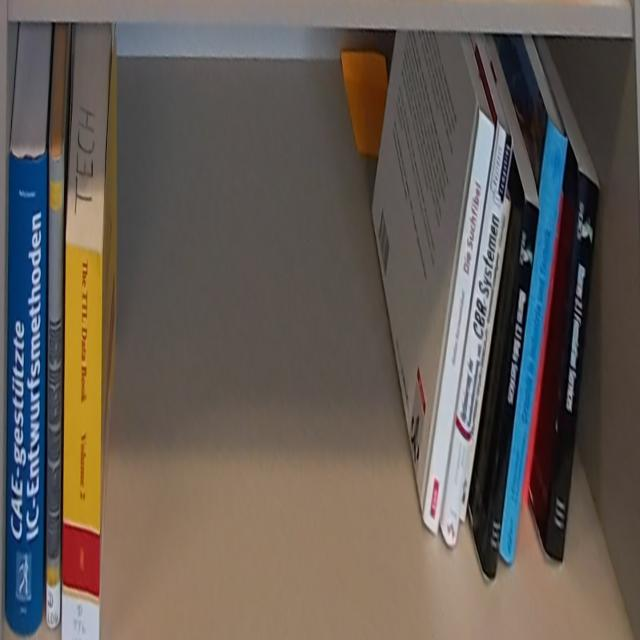Book Spine: (439, 121, 514, 552), (422, 112, 497, 539), (500, 121, 569, 564), (545, 175, 604, 567), (484, 206, 540, 582), (4, 147, 47, 633), (59, 243, 102, 640), (461, 199, 512, 522), (46, 157, 66, 637)
